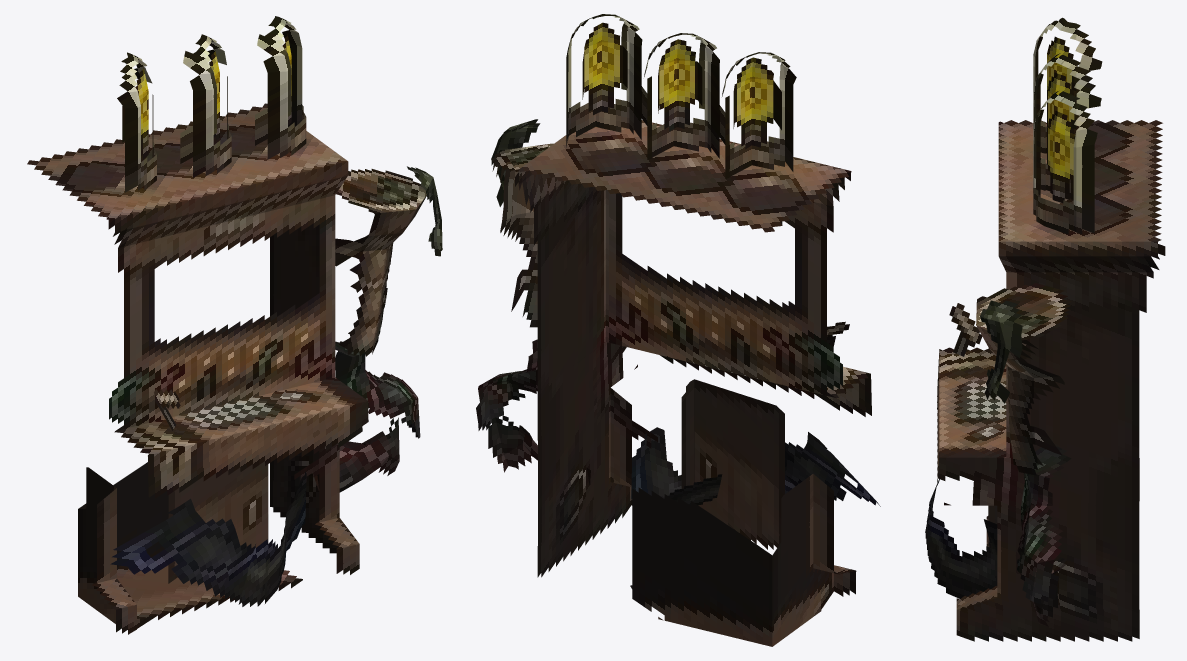
3 renders of one model, left to right at view 1: azimuth 30°, elevation 25°; view 2: azimuth 150°, elevation 25°; view 3: azimuth 270°, elevation 25°, orthographic. The views are drawn at different scales.
Parts seen in each view (by area): view 1: gate.top, gate.bot, gate.lamp.cylinder, gate.ten_F, gate.armF.003, gate.door, gate.armF.002, gate.armF.001, gate.lamp, gate.armF.004; view 2: gate.top, gate.bot, gate.door, gate.lamp.cylinder, gate.lamp, gate.ten_F, gate.armF.003, gate.armF.002, gate.armF.001, gate.armF.004, gate.ten_B; view 3: gate.top, gate.lamp.cylinder, gate.armF.003, gate.armF.002, gate.ten_F, gate.lamp, gate.armF.004, lever.002, gate.armF.001.
Part boxes in pixels (x1,y1,x2,y2): gate.top: (27, 103, 368, 574); gate.bot: (78, 462, 302, 634); gate.lamp.cylinder: (117, 16, 306, 192); gate.ten_F: (110, 471, 306, 606); gate.armF.003: (335, 169, 427, 356); gate.door: (168, 461, 268, 583); gate.armF.002: (335, 341, 420, 438); gate.armF.001: (313, 417, 399, 492); gate.lamp: (122, 34, 291, 159); gate.armF.004: (407, 166, 442, 256); gate.top: (515, 120, 871, 577); gate.bot: (630, 474, 856, 646); gate.door: (681, 379, 784, 549); gate.lamp.cylinder: (566, 14, 796, 178); gate.lamp: (582, 22, 781, 149); gate.ten_F: (631, 427, 880, 506); gate.armF.003: (491, 143, 553, 327); gate.armF.002: (476, 339, 537, 430); gate.armF.001: (488, 415, 590, 484); gate.armF.004: (491, 119, 540, 206); gate.ten_B: (664, 474, 722, 505); gate.top: (937, 120, 1165, 641); gate.lamp.cylinder: (1033, 17, 1102, 234); gate.armF.003: (976, 283, 1071, 475); gate.armF.002: (1017, 446, 1071, 604); gate.ten_F: (925, 479, 997, 598); gate.lamp: (1047, 36, 1079, 203); gate.armF.004: (980, 300, 1022, 403); lever.002: (949, 303, 982, 347); gate.armF.001: (1032, 557, 1066, 626).
Bounding box in the file's own units: 0.8284 × 1.17 × 0.4758.
1 material, 1 textured.
